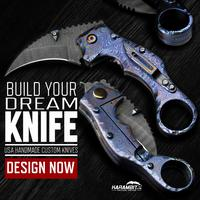knife: (3, 16, 164, 81)
